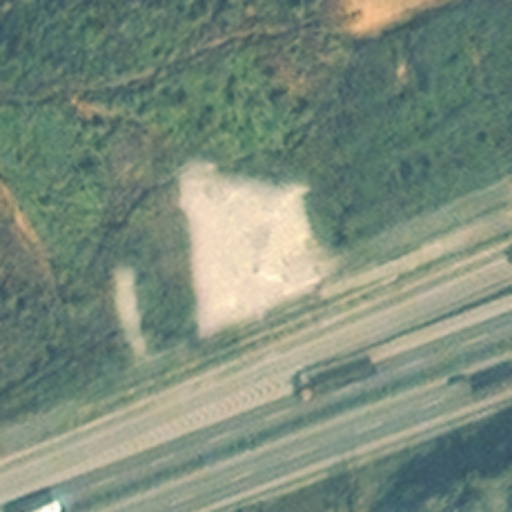landslide: (176, 151, 322, 345)
